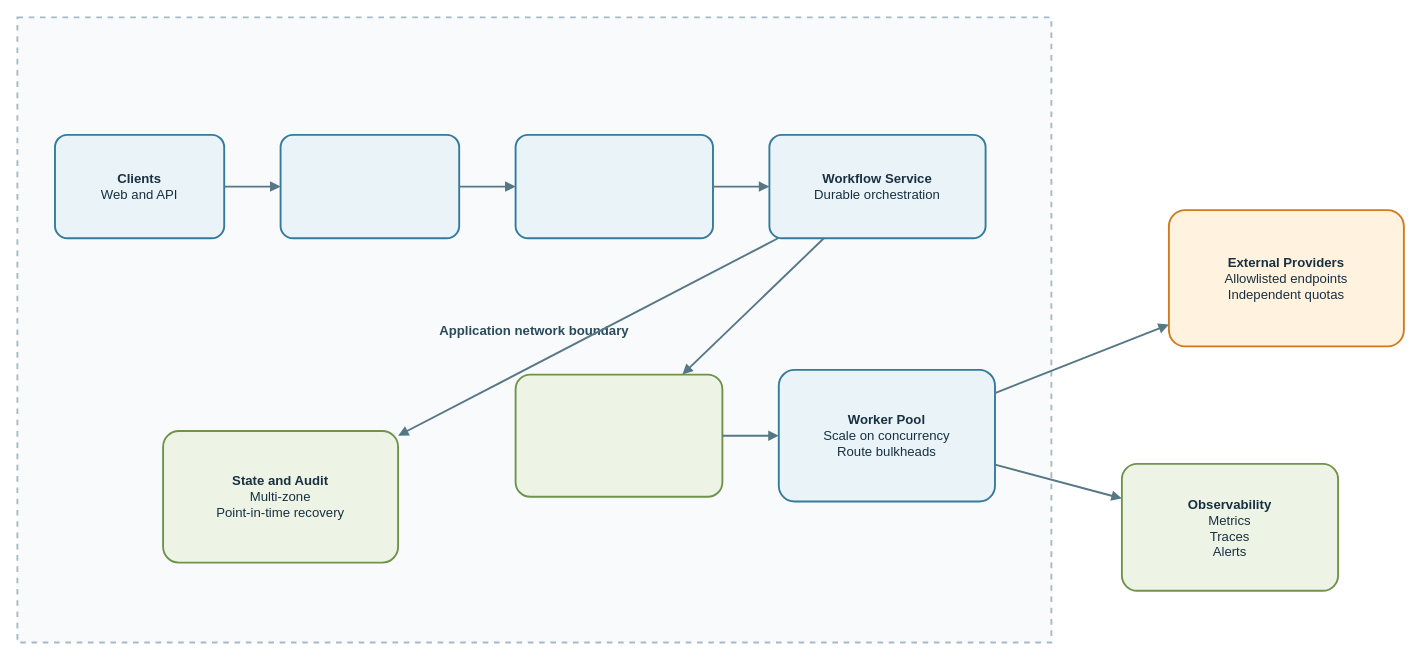
This 1420x659 diagram has some shape labels left out. Here are the shapes that lost their labels. From the top down, the box of each, then its label:
(279, 133, 460, 239): Gateway TLS and auth
(514, 133, 713, 239): Stateless API Scale on requests
(514, 373, 723, 497): Execution Queue Backpressure Dead letters
